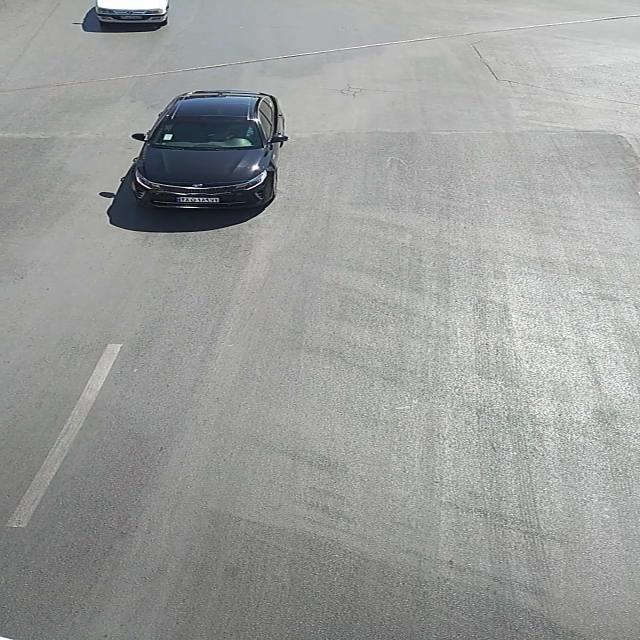car: (132, 87, 287, 207), (95, 1, 169, 24)
